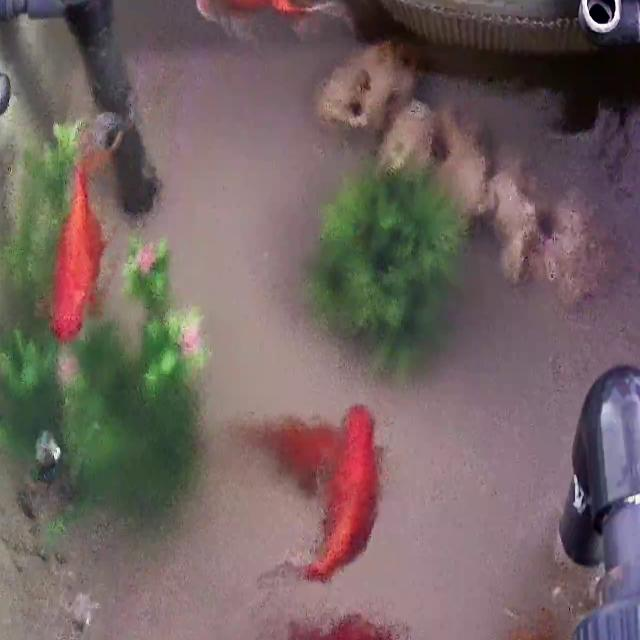fish: (300, 404, 379, 581), (47, 163, 107, 345), (262, 420, 342, 487), (185, 0, 332, 36), (285, 613, 398, 640), (460, 619, 550, 640)
